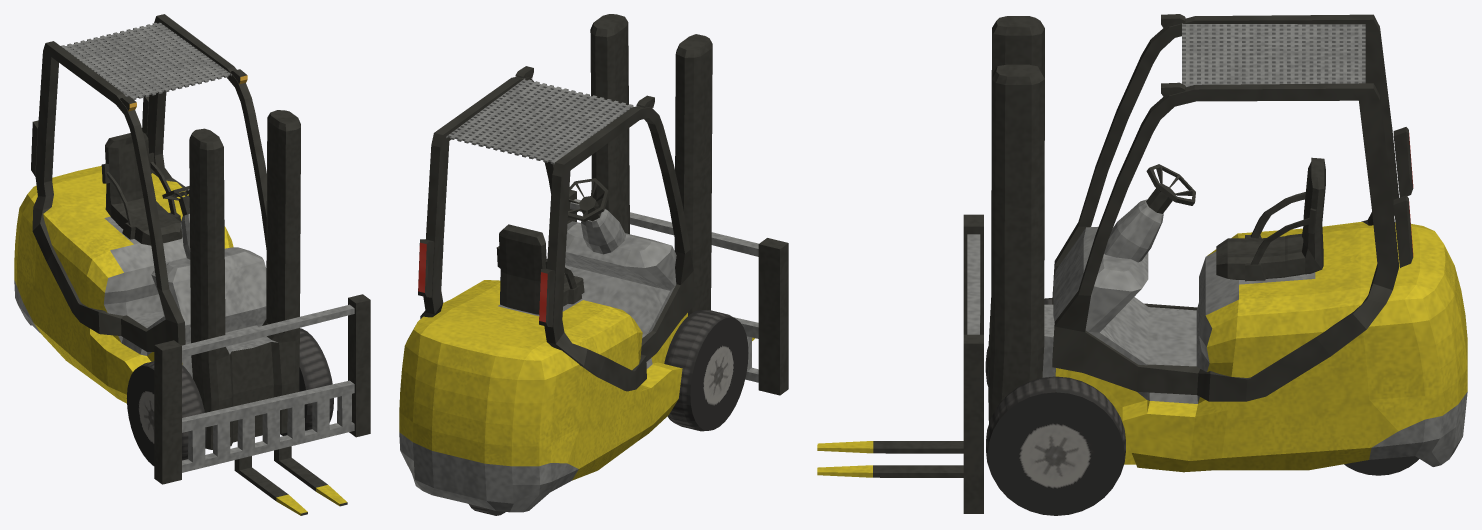
The model's file is Forklift.fbx.
3 views of the same model, side by side, from view 1: azimuth 30°, elevation 25°; view 2: azimuth 150°, elevation 25°; view 3: azimuth 270°, elevation 25° (orthographic). The views are drawn at different scales.
Visible parts, largest first — view 1: Body, Frame, Pilars, Plate, Seat, Rightwheel, LeftWheel, LeftFork, RightFork, SteeringWheel; view 2: Body, Frame, Pilars, Rightwheel, Plate, Seat, SteeringColumn, SteeringWheel; view 3: Body, Frame, Pilars, LeftWheel, Seat, Plate, SteeringColumn, LeftFork, RightFork, SteeringWheel, BackWheel.
Boxes of the visible parts, x1,y1,x2,y2 form: Body: (14,165,281,445); Frame: (31,14,266,351); Pilars: (189,110,300,449); Plate: (154,294,370,484); Seat: (101,132,182,245); Rightwheel: (126,361,206,465); LeftWheel: (280,328,333,435); LeftFork: (274,446,347,506); RightFork: (234,456,307,515); SteeringWheel: (162,186,189,215); Body: (399,221,687,512); Frame: (418,66,694,391); Pilars: (590,14,712,315); Rightwheel: (664,310,748,431); Plate: (568,190,788,395); Seat: (496,224,584,314); SteeringColumn: (581,209,625,254); SteeringWheel: (568,178,609,221); Body: (988,222,1467,472); Frame: (1052,14,1413,401); Pilars: (988,16,1044,423); LeftWheel: (986,376,1125,515); Seat: (1216,157,1325,281); Plate: (963,214,983,513); SteeringColumn: (1104,199,1163,262); LeftFork: (817,465,963,477); RightFork: (817,441,963,453); SteeringWheel: (1146,164,1195,213); BackWheel: (1344,456,1419,475).
Bounding box in the file's own units: 162 × 248 × 344.
